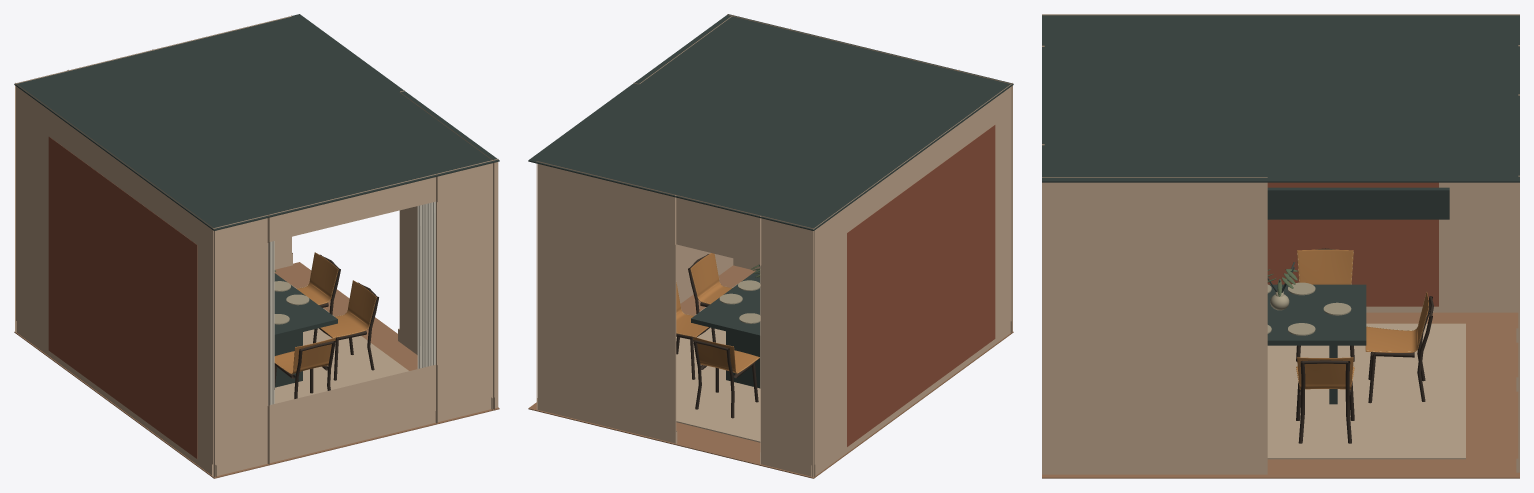
File: dining-3.glb
The picture shows the model from 3 angles, left to right: view 1: azimuth 30°, elevation 25°; view 2: azimuth 150°, elevation 25°; view 3: azimuth 270°, elevation 25°; orthographic projection. The views are drawn at different scales.
Visible parts, largest first — view 1: DESIGN | dining removable wall finish, DESIGN | dining ceiling finish, DESIGN | Dining clay wall field, DESIGN | Dining ground, DESIGN | dining floor finish, DESIGN | Dining linen edge.001, DESIGN | Required Isadora dining chair 3, DESIGN | Dining table top, DESIGN | Required Isadora dining chair 5, DESIGN | Required Isadora dining chair 4, DESIGN | Dining linen edge, DESIGN | Dining table trestle; view 2: DESIGN | dining removable wall finish, DESIGN | dining ceiling finish, DESIGN | Dining clay wall field, DESIGN | Dining ground, DESIGN | dining floor finish, DESIGN | Dining table top, DESIGN | Required Isadora dining chair 6, DESIGN | Required Isadora dining chair 3, DESIGN | Dining table trestle.001, DESIGN | Required Isadora dining chair 4; view 3: DESIGN | dining ceiling finish, DESIGN | dining removable wall finish, DESIGN | Dining ground, DESIGN | dining floor finish, DESIGN | Dining clay wall field, DESIGN | Dining sculptural timber wall band, DESIGN | Dining table top, DESIGN | Required Isadora dining chair 6, DESIGN | Required Isadora dining chair 4, DESIGN | Required Isadora dining chair 2.
Boxes of the visible parts, box(x1,y1,x2,y2) form: DESIGN | dining removable wall finish: box(15, 15, 498, 477); DESIGN | dining ceiling finish: box(14, 14, 499, 230); DESIGN | Dining clay wall field: box(48, 137, 197, 458); DESIGN | Dining ground: box(274, 285, 408, 403); DESIGN | dining floor finish: box(14, 262, 499, 478); DESIGN | Dining linen edge.001: box(417, 201, 435, 368); DESIGN | Required Isadora dining chair 3: box(313, 280, 378, 380); DESIGN | Dining table top: box(274, 273, 337, 338); DESIGN | Required Isadora dining chair 5: box(274, 337, 335, 398); DESIGN | Required Isadora dining chair 4: box(296, 252, 340, 341); DESIGN | Dining linen edge: box(268, 241, 274, 405); DESIGN | Dining table trestle: box(274, 332, 302, 387); DESIGN | dining removable wall finish: box(536, 14, 1012, 477); DESIGN | dining ceiling finish: box(528, 14, 1013, 230); DESIGN | Dining clay wall field: box(847, 125, 995, 446); DESIGN | Dining ground: box(676, 284, 760, 442); DESIGN | dining floor finish: box(528, 265, 1013, 478); DESIGN | Dining table top: box(691, 270, 760, 339); DESIGN | Required Isadora dining chair 6: box(693, 336, 759, 418); DESIGN | Required Isadora dining chair 3: box(688, 253, 732, 340); DESIGN | Dining table trestle.001: box(726, 331, 760, 388); DESIGN | Required Isadora dining chair 4: box(676, 281, 715, 379); DESIGN | dining ceiling finish: box(1042, 15, 1519, 182); DESIGN | dining removable wall finish: box(1042, 14, 1519, 474); DESIGN | Dining ground: box(1267, 323, 1465, 459); DESIGN | dining floor finish: box(1042, 312, 1519, 478); DESIGN | Dining clay wall field: box(1267, 182, 1438, 306); DESIGN | Dining sculptural timber wall band: box(1267, 187, 1449, 219); DESIGN | Dining table top: box(1267, 284, 1366, 345); DESIGN | Required Isadora dining chair 6: box(1365, 292, 1433, 403); DESIGN | Required Isadora dining chair 4: box(1296, 357, 1354, 443); DESIGN | Required Isadora dining chair 2: box(1296, 248, 1354, 361).
Size of the model in its own units: 3.28 by 2.74 by 3.98.
